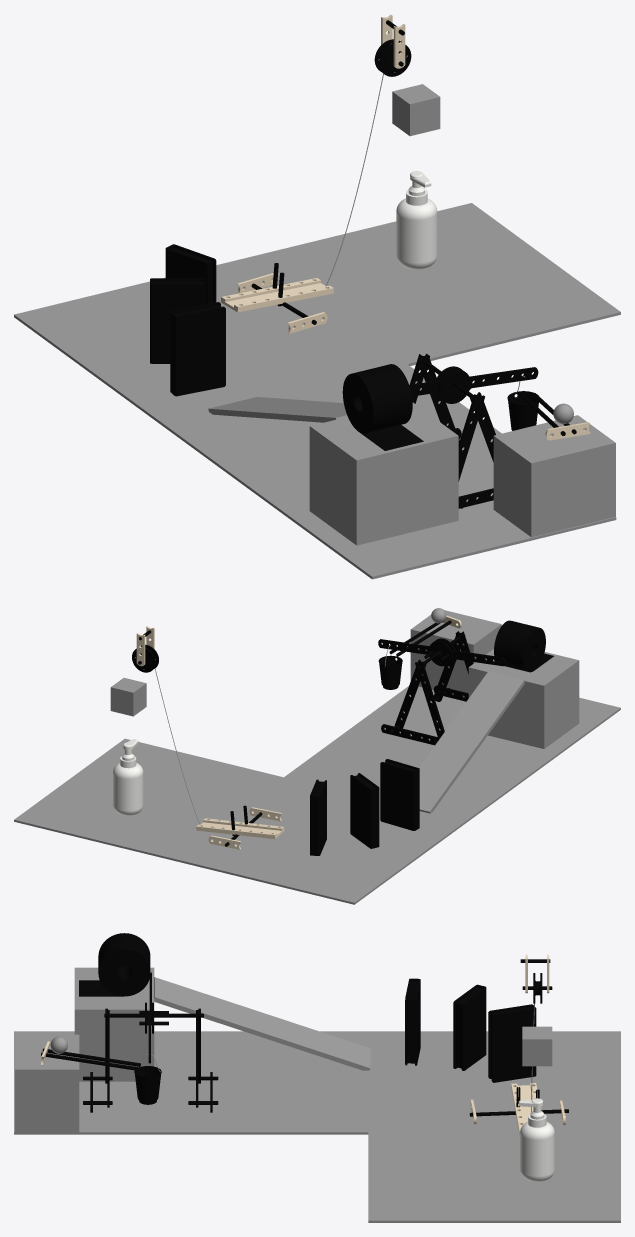
Rendered from Soap machine v7.fbx.
3 views of the same model, one above another, from view 1: azimuth 30°, elevation 25°; view 2: azimuth 150°, elevation 25°; view 3: azimuth 270°, elevation 25° (orthographic). The views are drawn at different scales.
Parts seen in each view (by area): view 1: Body1 (×11), Body2 (×3), Body6, Body5; view 2: Body1 (×15), Body2 (×2), Body6, Body5; view 3: Body1 (×9), Body2 (×3), Body6, Body5.
Part boxes in pixels (x1=…): Body1 (×11): x1=14, y1=39, x2=620, y2=579; Body2 (×3): x1=208, y1=391, x2=538, y2=450; Body6: x1=392, y1=84, x2=440, y2=136; Body5: x1=221, y1=278, x2=333, y2=312; Body1 (×15): x1=14, y1=610, x2=620, y2=904; Body2 (×2): x1=378, y1=655, x2=524, y2=813; Body6: x1=110, y1=678, x2=146, y2=716; Body5: x1=196, y1=818, x2=284, y2=839; Body1 (×9): x1=14, y1=933, x2=620, y2=1222; Body2 (×3): x1=79, y1=977, x2=370, y2=1104; Body6: x1=522, y1=1026, x2=552, y2=1066; Body5: x1=511, y1=1083, x2=537, y2=1136.
Size of the model in its own units: 45 by 23.68 by 61.
